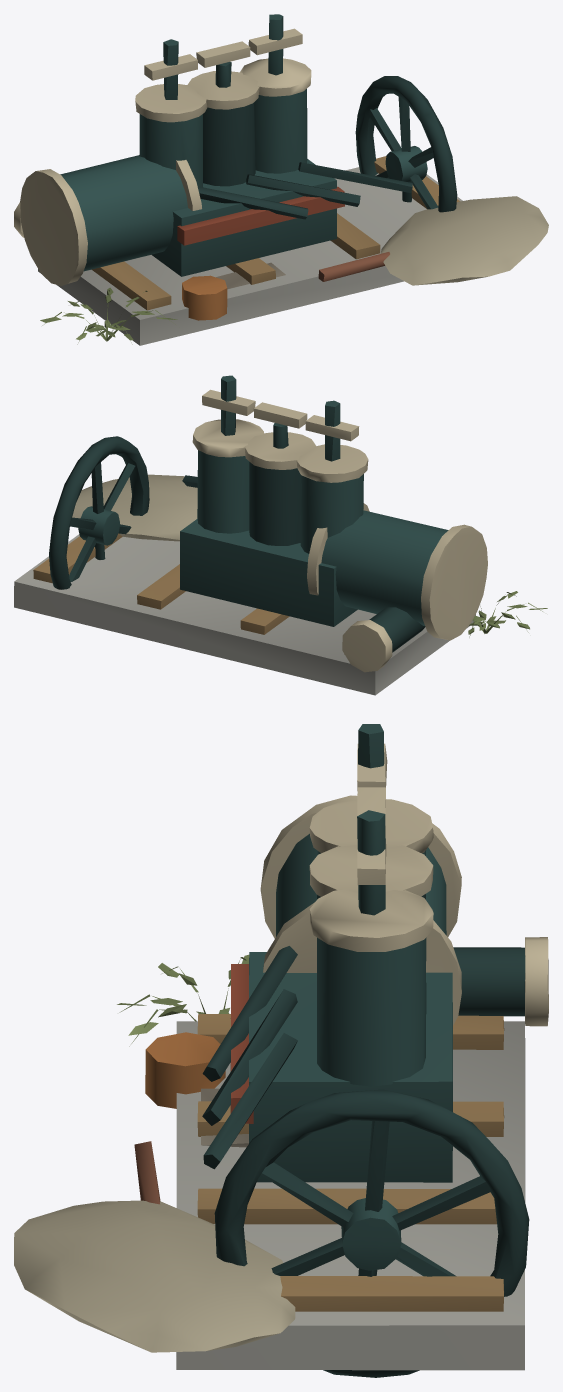
The model's file is pump_engine_b_lod2.glb.
3 renders of one model, top to bottom at view 1: azimuth 30°, elevation 25°; view 2: azimuth 150°, elevation 25°; view 3: azimuth 270°, elevation 25°, orthographic. The views are drawn at different scales.
Parts seen in each view (by area): view 1: Surface.001; view 2: Surface.001; view 3: Surface.001.
Part boxes in pixels (x1,y1,x2,y2): Surface.001: (14, 14, 548, 345); Surface.001: (14, 375, 547, 695); Surface.001: (14, 724, 548, 1377).
Bounding box in the file's own units: 9.29 × 4.83 × 5.18.
